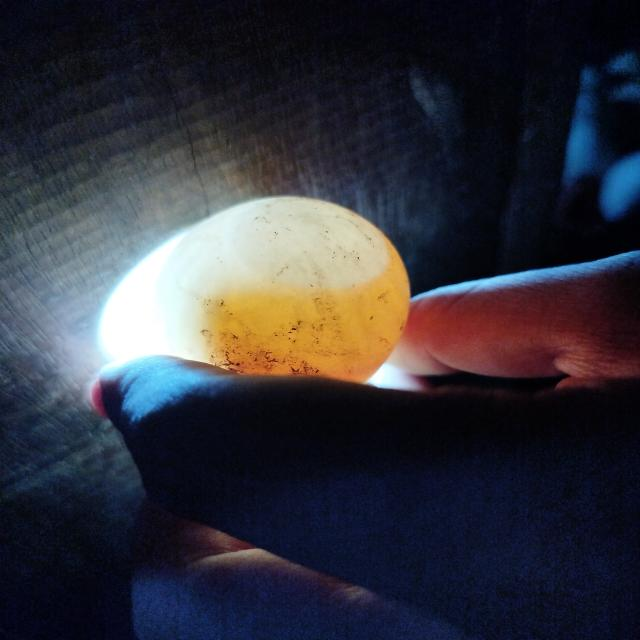Camara de Ar: (240, 199, 390, 288)
